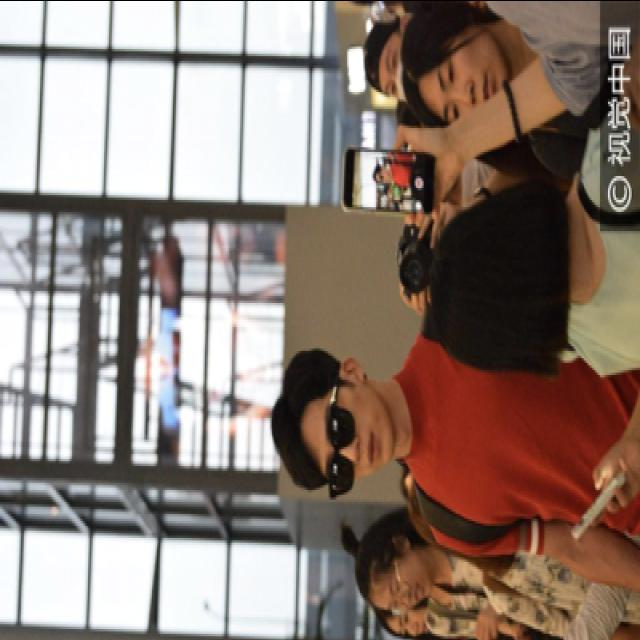no_mask: (318, 384, 396, 484), (433, 26, 508, 124), (382, 556, 428, 614), (395, 606, 435, 640)
